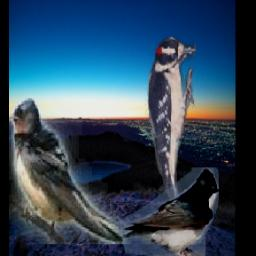Swallow: (10, 99, 152, 245), (121, 167, 220, 256)
Woodpecker: (146, 32, 197, 225)
